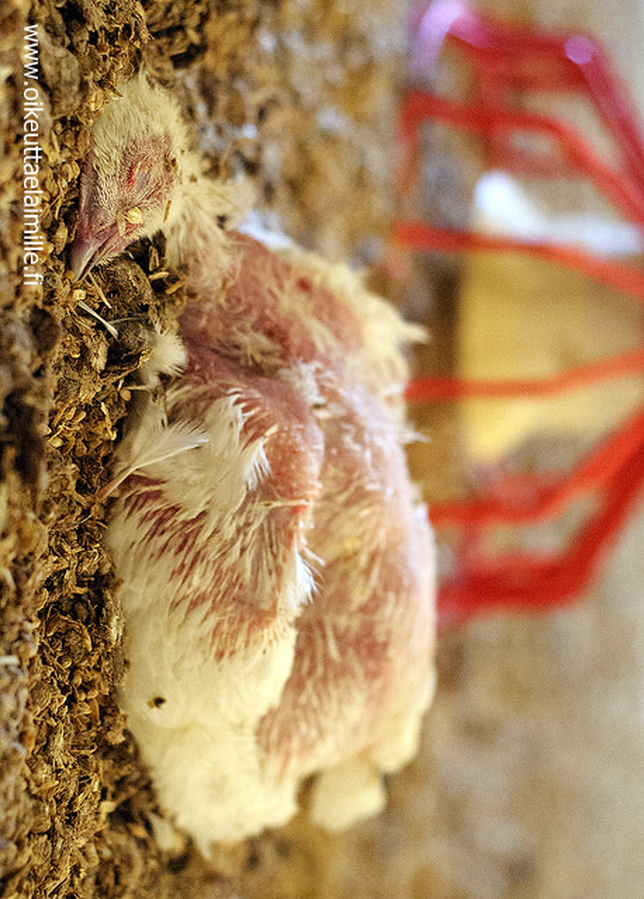Unhealthy: (48, 55, 508, 870)
